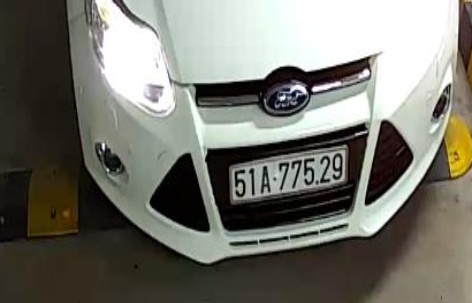plate: (222, 145, 349, 205)
